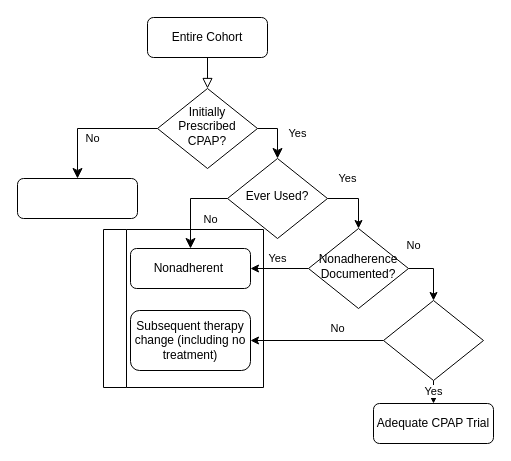
The diagram is 511 pixels wide and 461 high, and some of its shapes have lost their labels. Each missing label, with the centre of its shape:
CPAP continued?: (x=433, y=340)
No CPAP Trial: (x=77, y=198)
Unsuccessful CPAP Trial: (x=183, y=308)
